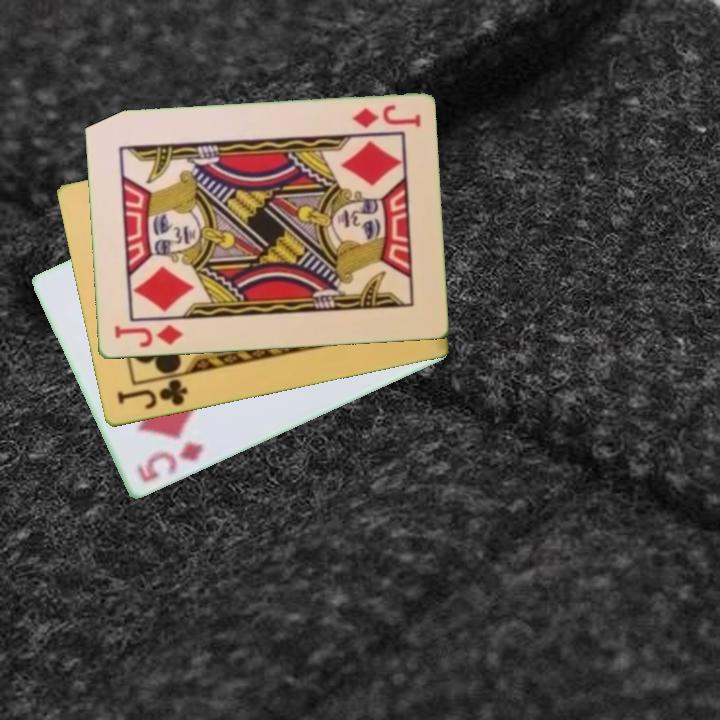5d: (133, 438, 206, 486)
Jc: (113, 375, 191, 413)
Jd: (110, 321, 186, 351), (348, 101, 424, 131)
